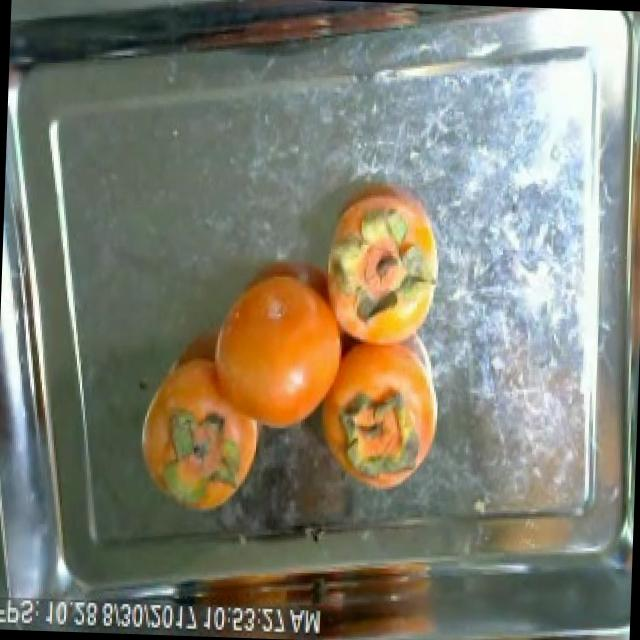Fruit: (121, 380, 272, 527), (334, 358, 448, 506), (301, 550, 456, 640)
